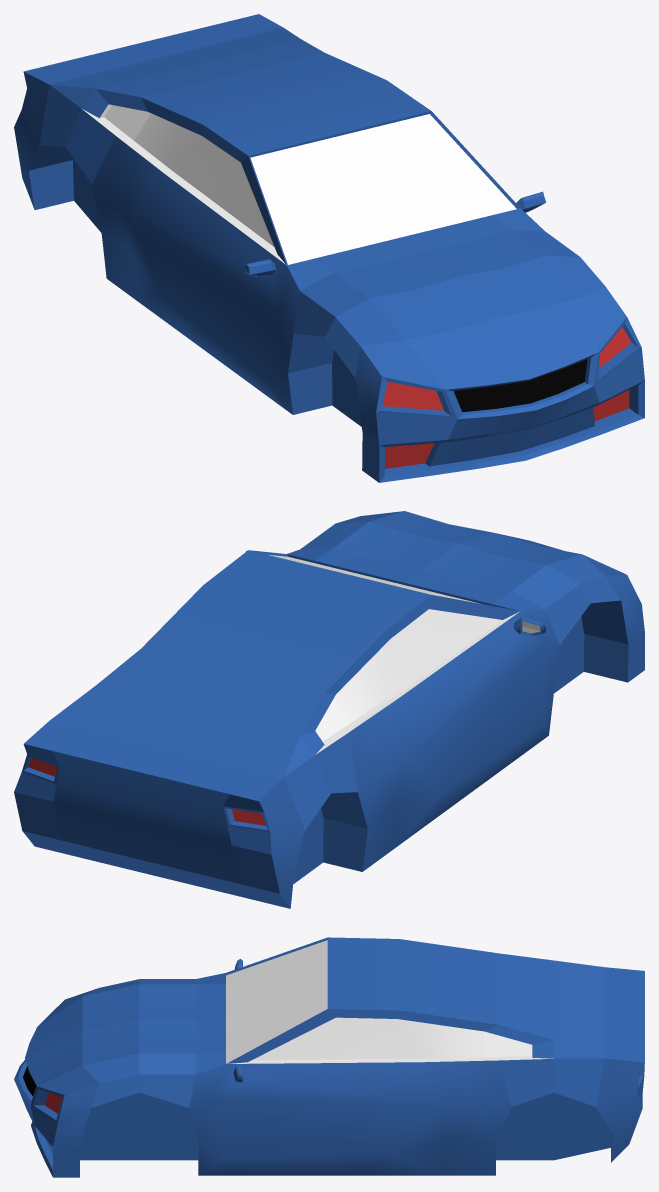
Rendered from Model_Car.fbx.
3 views of the same model, one above another, from view 1: azimuth 30°, elevation 25°; view 2: azimuth 150°, elevation 25°; view 3: azimuth 270°, elevation 25° (orthographic). The views are drawn at different scales.
Parts seen in each view (by area): view 1: Model_Car:polySurface3; view 2: Model_Car:polySurface3; view 3: Model_Car:polySurface3.
Boxes of the visible parts, x1,y1,x2,y2 form: Model_Car:polySurface3: (14, 14, 644, 482); Model_Car:polySurface3: (14, 511, 644, 908); Model_Car:polySurface3: (14, 937, 644, 1177).
Bounding box in the file's own units: 2.93 × 1.78 × 6.67.
